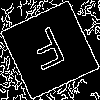F: (25, 25, 72, 80)
